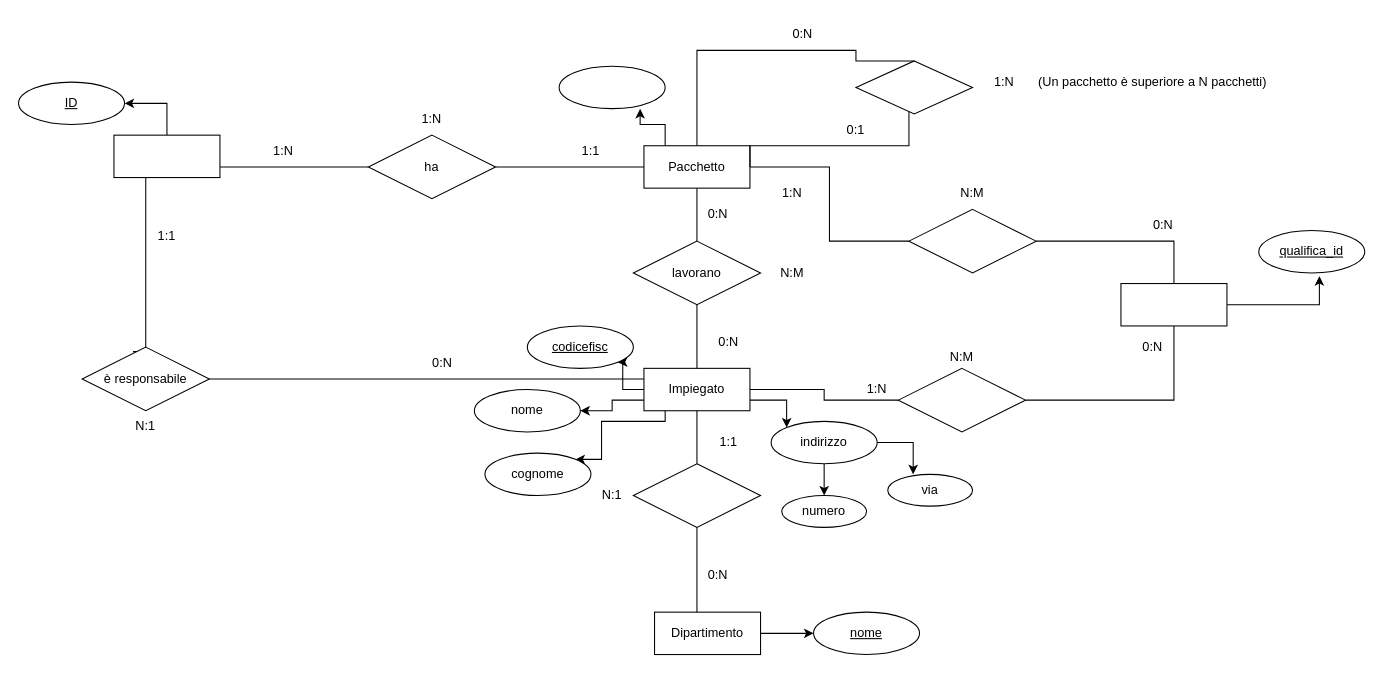
Image size: 1383x673. Some labels were removed from this diagram. The centre of each missing label's shape, as x and y in pixels:
"lavora" goes at [696,495].
"PKG-ID" goes at [611,87].
"possiede" goes at [961,399].
"Progetto" goes at [166,156].
"Qualifica" goes at [1173,304].
"richiede" goes at [972,240].
"èsuperiore" goes at [914,87].
